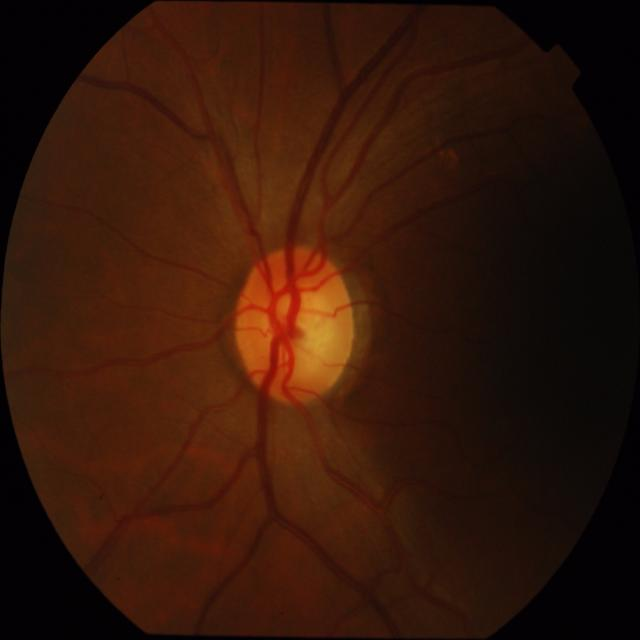OC: (246, 273, 347, 394)
OD: (234, 246, 355, 406)
